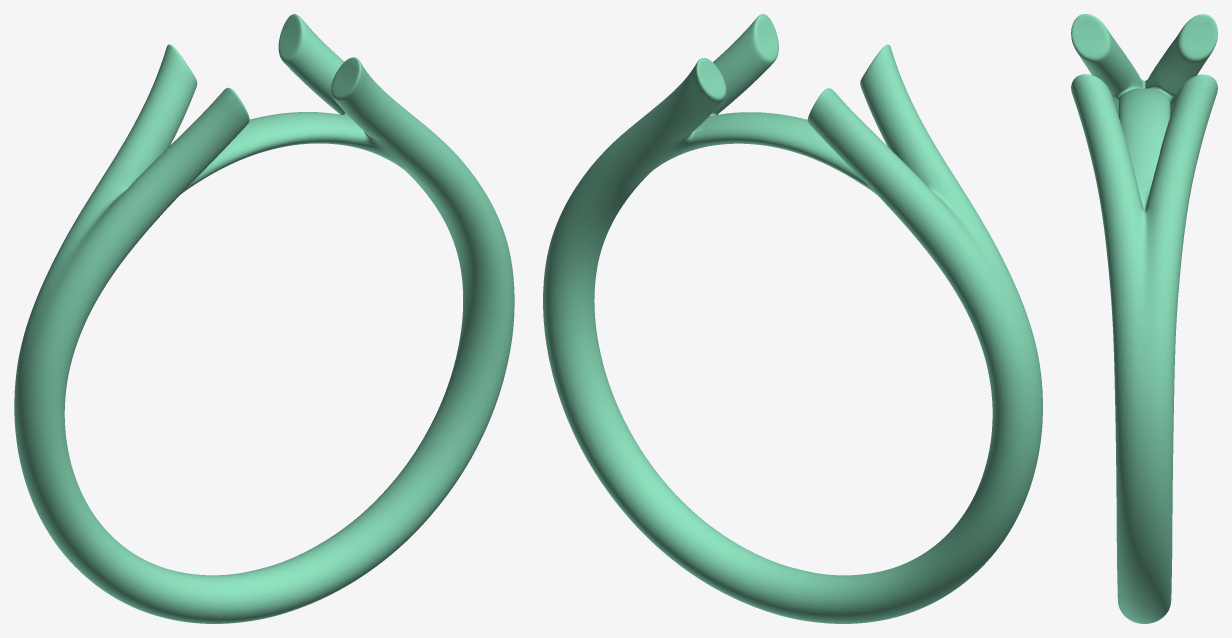
3 renders of one model, left to right at view 1: azimuth 30°, elevation 25°; view 2: azimuth 150°, elevation 25°; view 3: azimuth 270°, elevation 25°, orthographic.
Visible parts, largest first — view 1: Metal02; view 2: Metal02; view 3: Metal02.
Boxes of the visible parts, bbox=[...] form: Metal02: bbox=[14, 14, 514, 623]; Metal02: bbox=[543, 14, 1042, 623]; Metal02: bbox=[1071, 14, 1217, 623].
Size of the model in its own units: 20.9 by 22.91 by 5.51.
